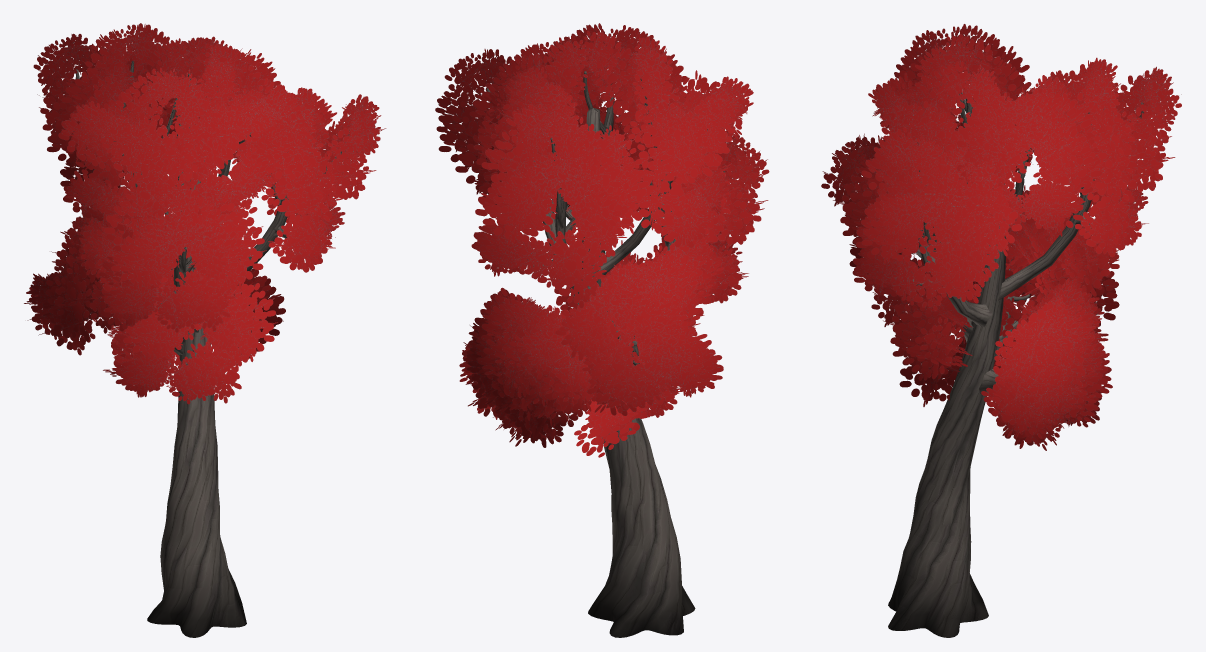
The model's file is tree_twisted_5.glb.
3 views of the same model, side by side, from view 1: azimuth 30°, elevation 25°; view 2: azimuth 150°, elevation 25°; view 3: azimuth 270°, elevation 25° (orthographic). The views are drawn at different scales.
Parts seen in each view (by area): view 1: TwistedTree_5; view 2: TwistedTree_5; view 3: TwistedTree_5.
Boxes of the visible parts, <box> form: TwistedTree_5: <box>24,23,386,637</box>; TwistedTree_5: <box>435,23,769,637</box>; TwistedTree_5: <box>821,24,1181,637</box>.
Bounding box in the file's own units: 9.5 × 15.66 × 9.39.
2 materials, 2 textured.
